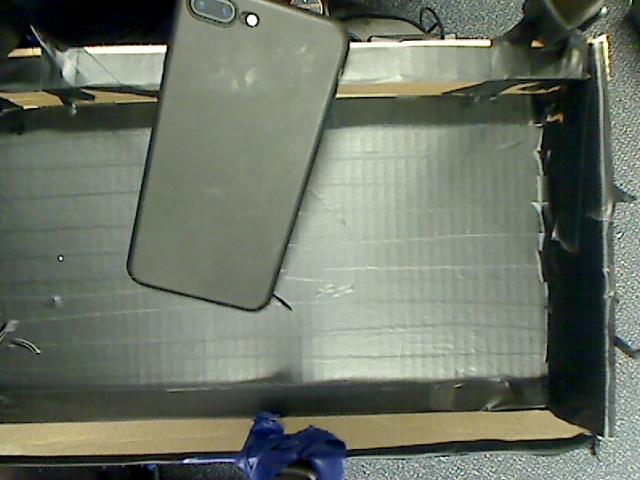phone: (108, 1, 353, 309)
